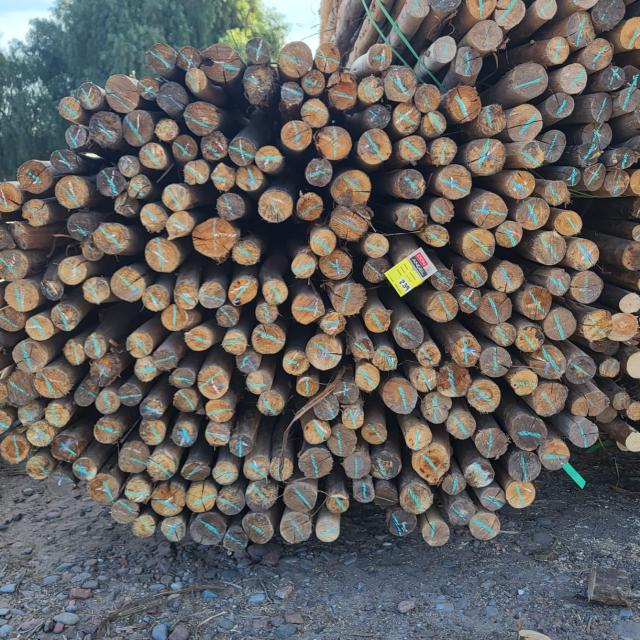package: (0, 44, 612, 547), (380, 0, 640, 207), (605, 191, 640, 473)
